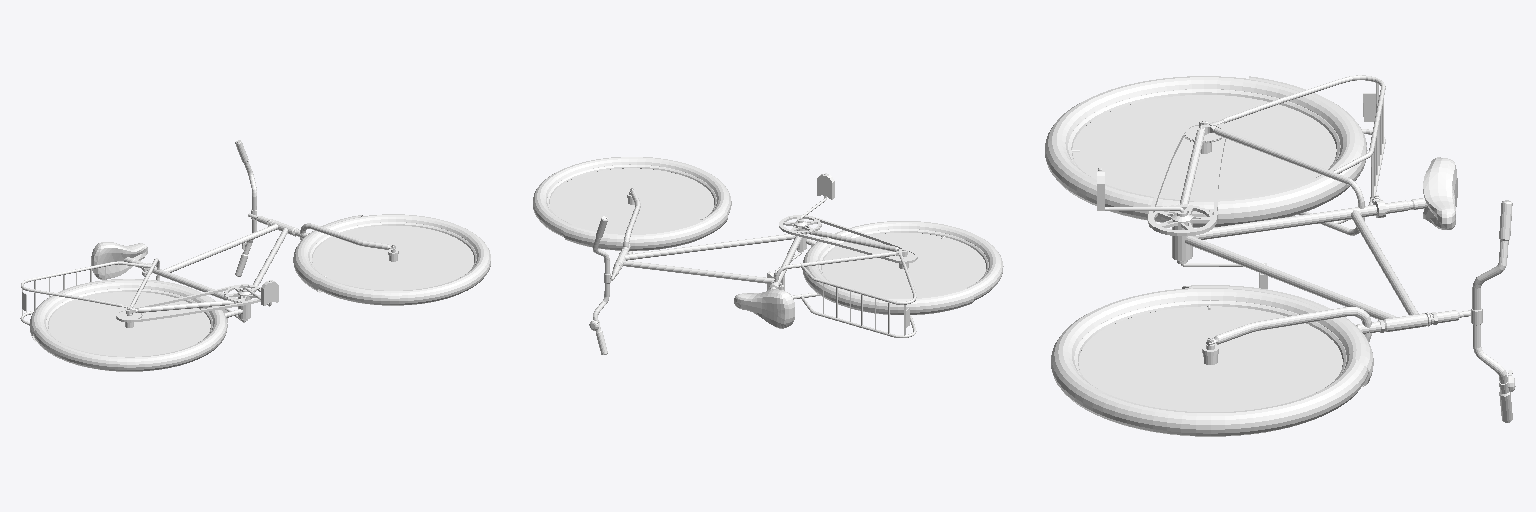
The robot description file, URDF, robot "bicycle.urdf":
<?xml version="1.0" ?>
<robot name="bicycle.urdf">
  <link name="baseLink">
    <inertial>
      <origin rpy="0 0 0" xyz="0 0 0"/>
       <mass value="0.0"/>
       <inertia ixx="0" ixy="0" ixz="0" iyy="0" iyz="0" izz="0"/>
    </inertial>
    <visual>
      <origin rpy="0 0 0" xyz="0 0 0"/>
      <geometry>
        <mesh filename="bicycle.obj" scale="0.005 0.005 0.005"/>
      </geometry>
      <material name="white">
       <color rgba="1 1 1 1"/>
     </material>
    </visual>
    <collision>
      <origin rpy="0 0 0" xyz="0 0 0"/>
      <geometry>
        <mesh filename="bicycle.obj" scale="0.005 0.005 0.005"/>
        <!-- You could also specify the collision (for the bicycle) with a "box" tag: -->
        <!-- <box size=".06 .06 .06"/> -->
      </geometry>
    </collision>
  </link>
</robot>

--- What the picture shows (computed from the rendered views, not written in the file) ---
The picture shows the robot from 3 angles, left to right: view 1: azimuth 30°, elevation 25°; view 2: azimuth 150°, elevation 25°; view 3: azimuth 270°, elevation 25°; orthographic projection.
Robot: bicycle.urdf — 1 links, 0 joints (none); root link baseLink; default pose: every joint at zero.
Links seen in each view (by area): view 1: baseLink; view 2: baseLink; view 3: baseLink.
Boxes of the visible links, bbox=[...] form: baseLink: bbox=[20, 140, 490, 371]; baseLink: bbox=[533, 157, 1003, 354]; baseLink: bbox=[1045, 75, 1515, 436].
Size in the robot's own frame: 0.9357 by 0.5376 by 0.2788 metres.
1 mesh visuals loaded from 1 distinct referenced files (1 OBJ).
